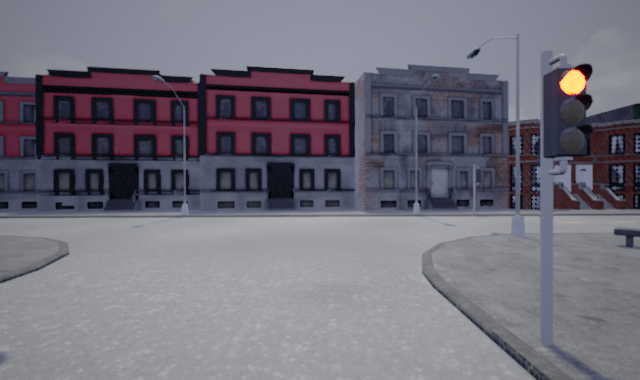traffic_light: (542, 63, 593, 158)
